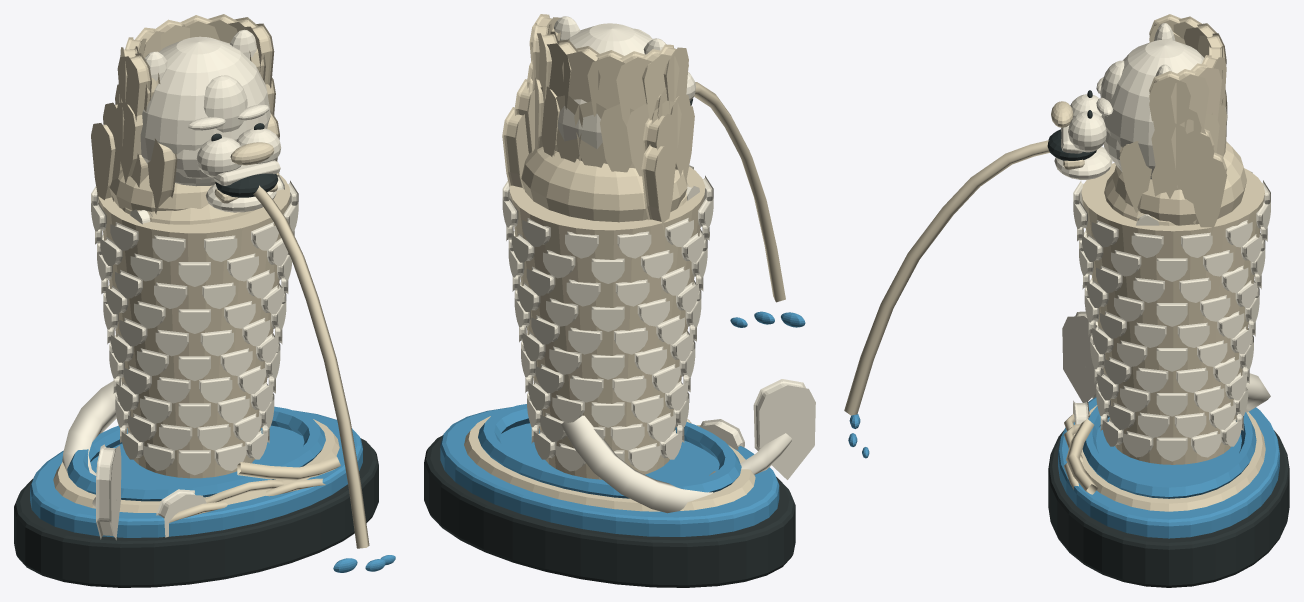
Rendered from harbour-statue-v2.glb.
3 views of the same model, side by side, from view 1: azimuth 30°, elevation 25°; view 2: azimuth 150°, elevation 25°; view 3: azimuth 270°, elevation 25° (orthographic). The views are drawn at different scales.
Visible parts, largest first — view 1: MERLION WATERFRONT SCULPTURE · Chalk, MERLION WATERFRONT SCULPTURE · Warm plaster, MERLION WATERFRONT SCULPTURE · Ink, MERLION WATERFRONT SCULPTURE · Utility blue; view 2: MERLION WATERFRONT SCULPTURE · Warm plaster, MERLION WATERFRONT SCULPTURE · Chalk, MERLION WATERFRONT SCULPTURE · Ink, MERLION WATERFRONT SCULPTURE · Utility blue; view 3: MERLION WATERFRONT SCULPTURE · Warm plaster, MERLION WATERFRONT SCULPTURE · Chalk, MERLION WATERFRONT SCULPTURE · Utility blue, MERLION WATERFRONT SCULPTURE · Ink.
Part boxes in pixels (bbox=[...]): MERLION WATERFRONT SCULPTURE · Chalk: bbox=[62, 29, 298, 540]; MERLION WATERFRONT SCULPTURE · Warm plaster: bbox=[53, 14, 369, 548]; MERLION WATERFRONT SCULPTURE · Ink: bbox=[14, 123, 378, 587]; MERLION WATERFRONT SCULPTURE · Utility blue: bbox=[30, 406, 395, 572]; MERLION WATERFRONT SCULPTURE · Warm plaster: bbox=[464, 14, 785, 511]; MERLION WATERFRONT SCULPTURE · Chalk: bbox=[502, 16, 815, 513]; MERLION WATERFRONT SCULPTURE · Ink: bbox=[424, 99, 795, 587]; MERLION WATERFRONT SCULPTURE · Utility blue: bbox=[440, 311, 805, 536]; MERLION WATERFRONT SCULPTURE · Warm plaster: bbox=[844, 14, 1265, 511]; MERLION WATERFRONT SCULPTURE · Chalk: bbox=[1054, 23, 1270, 461]; MERLION WATERFRONT SCULPTURE · Utility blue: bbox=[848, 397, 1279, 538]; MERLION WATERFRONT SCULPTURE · Ink: bbox=[1047, 90, 1289, 587].
Size of the model in its own units: 3.53 by 4.81 by 4.17.
